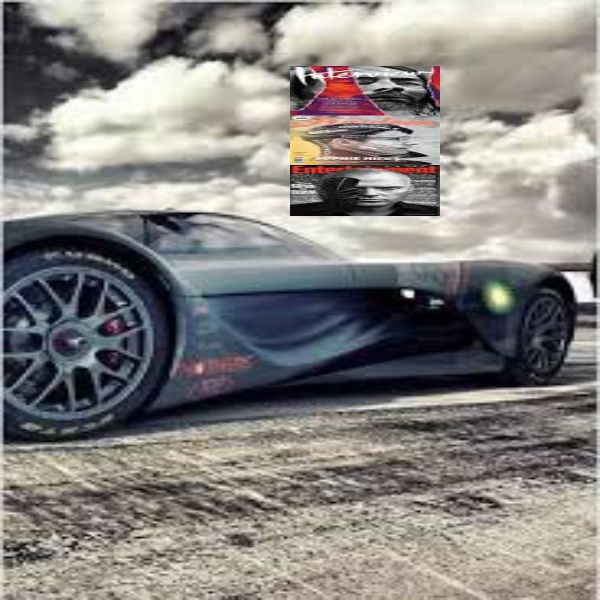time_cover: (278, 55, 447, 222)
